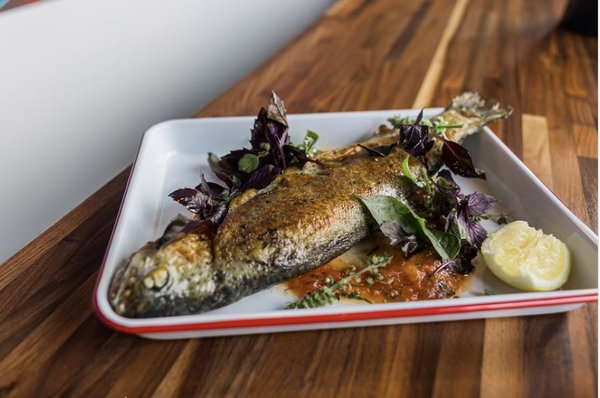curry: (6, 1, 594, 380)
